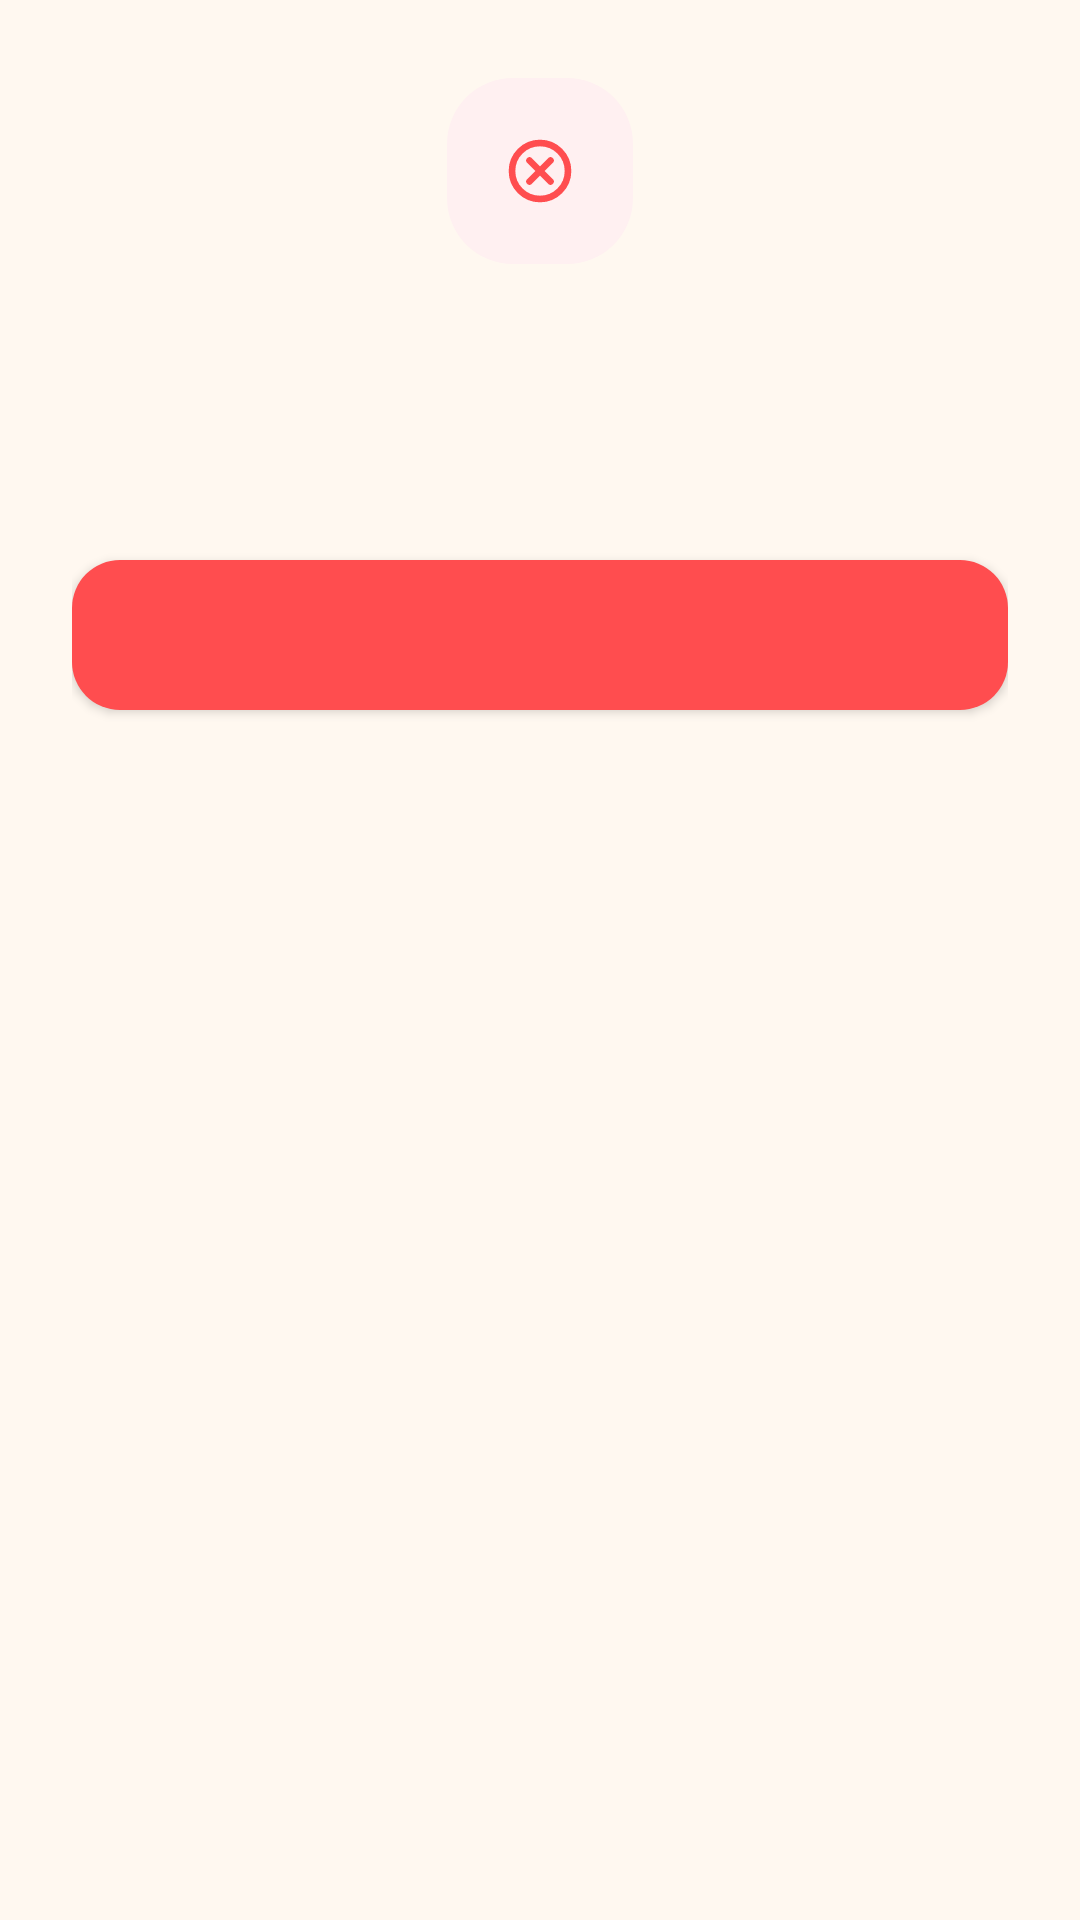

Locate icon controls on the screen. Image size 1080 x 1920, boxes as (x1, y1, x2, y2).
Khong the xoa mon: (508, 139, 572, 203)
